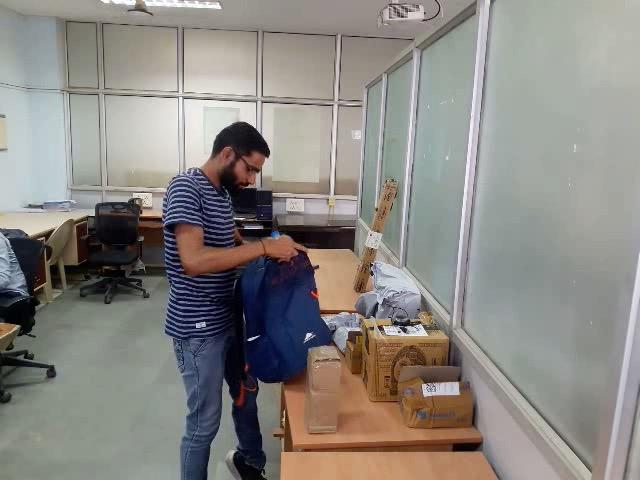shoplifting: (233, 224, 338, 380)
